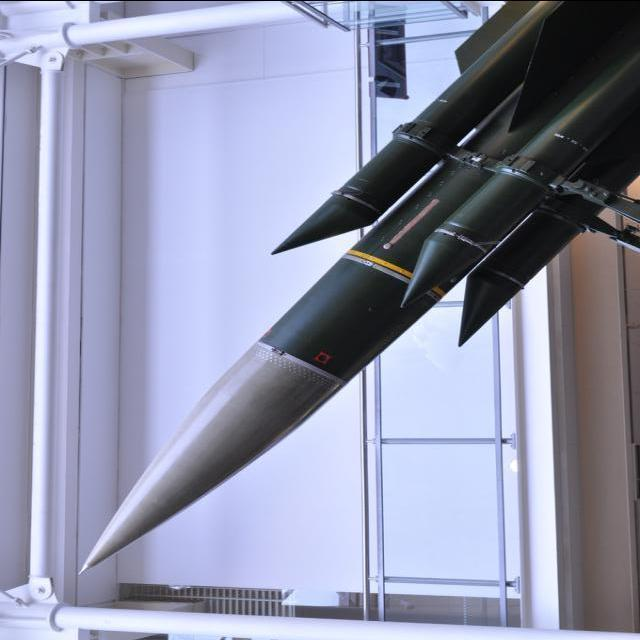missile: (75, 4, 640, 579)
